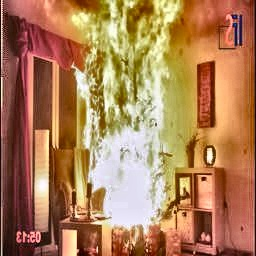fire: (56, 0, 198, 238)
